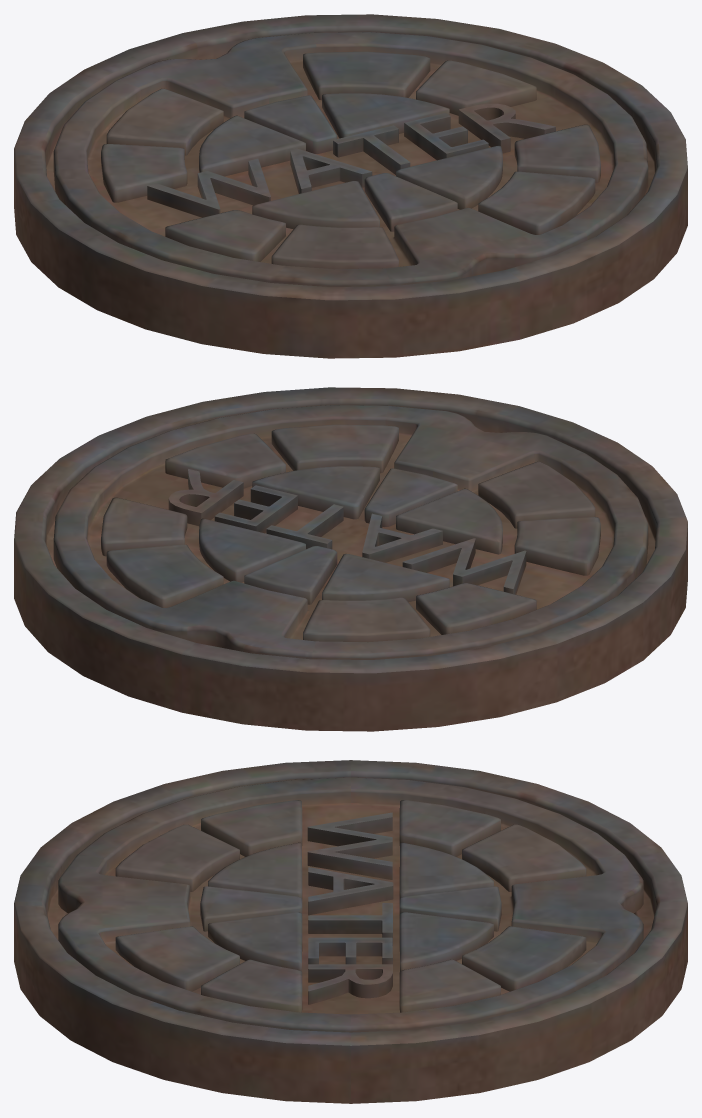
File: manhole.glb
The picture shows the model from 3 angles, top to bottom: view 1: azimuth 30°, elevation 25°; view 2: azimuth 150°, elevation 25°; view 3: azimuth 270°, elevation 25°; orthographic projection.
Parts seen in each view (by area): view 1: water_manhole_cover, water_manhole_cover_frame; view 2: water_manhole_cover, water_manhole_cover_frame; view 3: water_manhole_cover, water_manhole_cover_frame.
Part boxes in pixels (<box>): water_manhole_cover: <box>53,32,648,286</box>; water_manhole_cover_frame: <box>14,14,687,358</box>; water_manhole_cover: <box>53,405,648,659</box>; water_manhole_cover_frame: <box>14,387,687,731</box>; water_manhole_cover: <box>58,777,643,1032</box>; water_manhole_cover_frame: <box>14,760,687,1103</box>.
Size of the model in its own units: 0.6908 by 0.0676 by 0.6908.
Materials: 1 (1 with a texture image).
